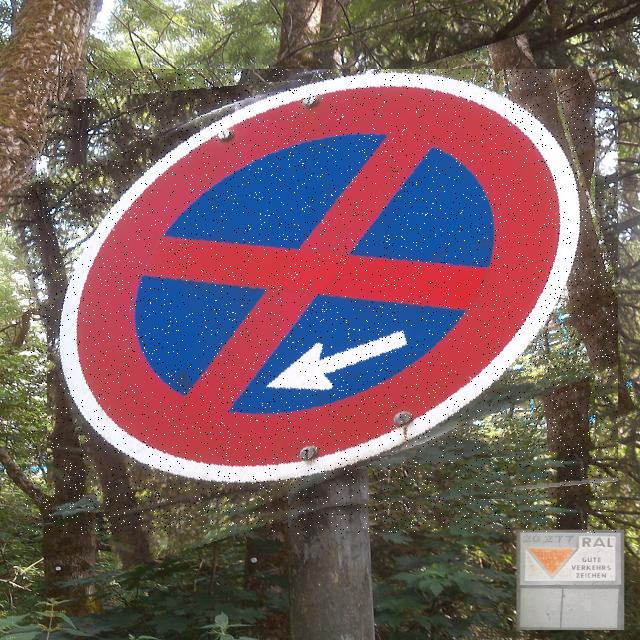no stopping: (25, 69, 618, 534)
